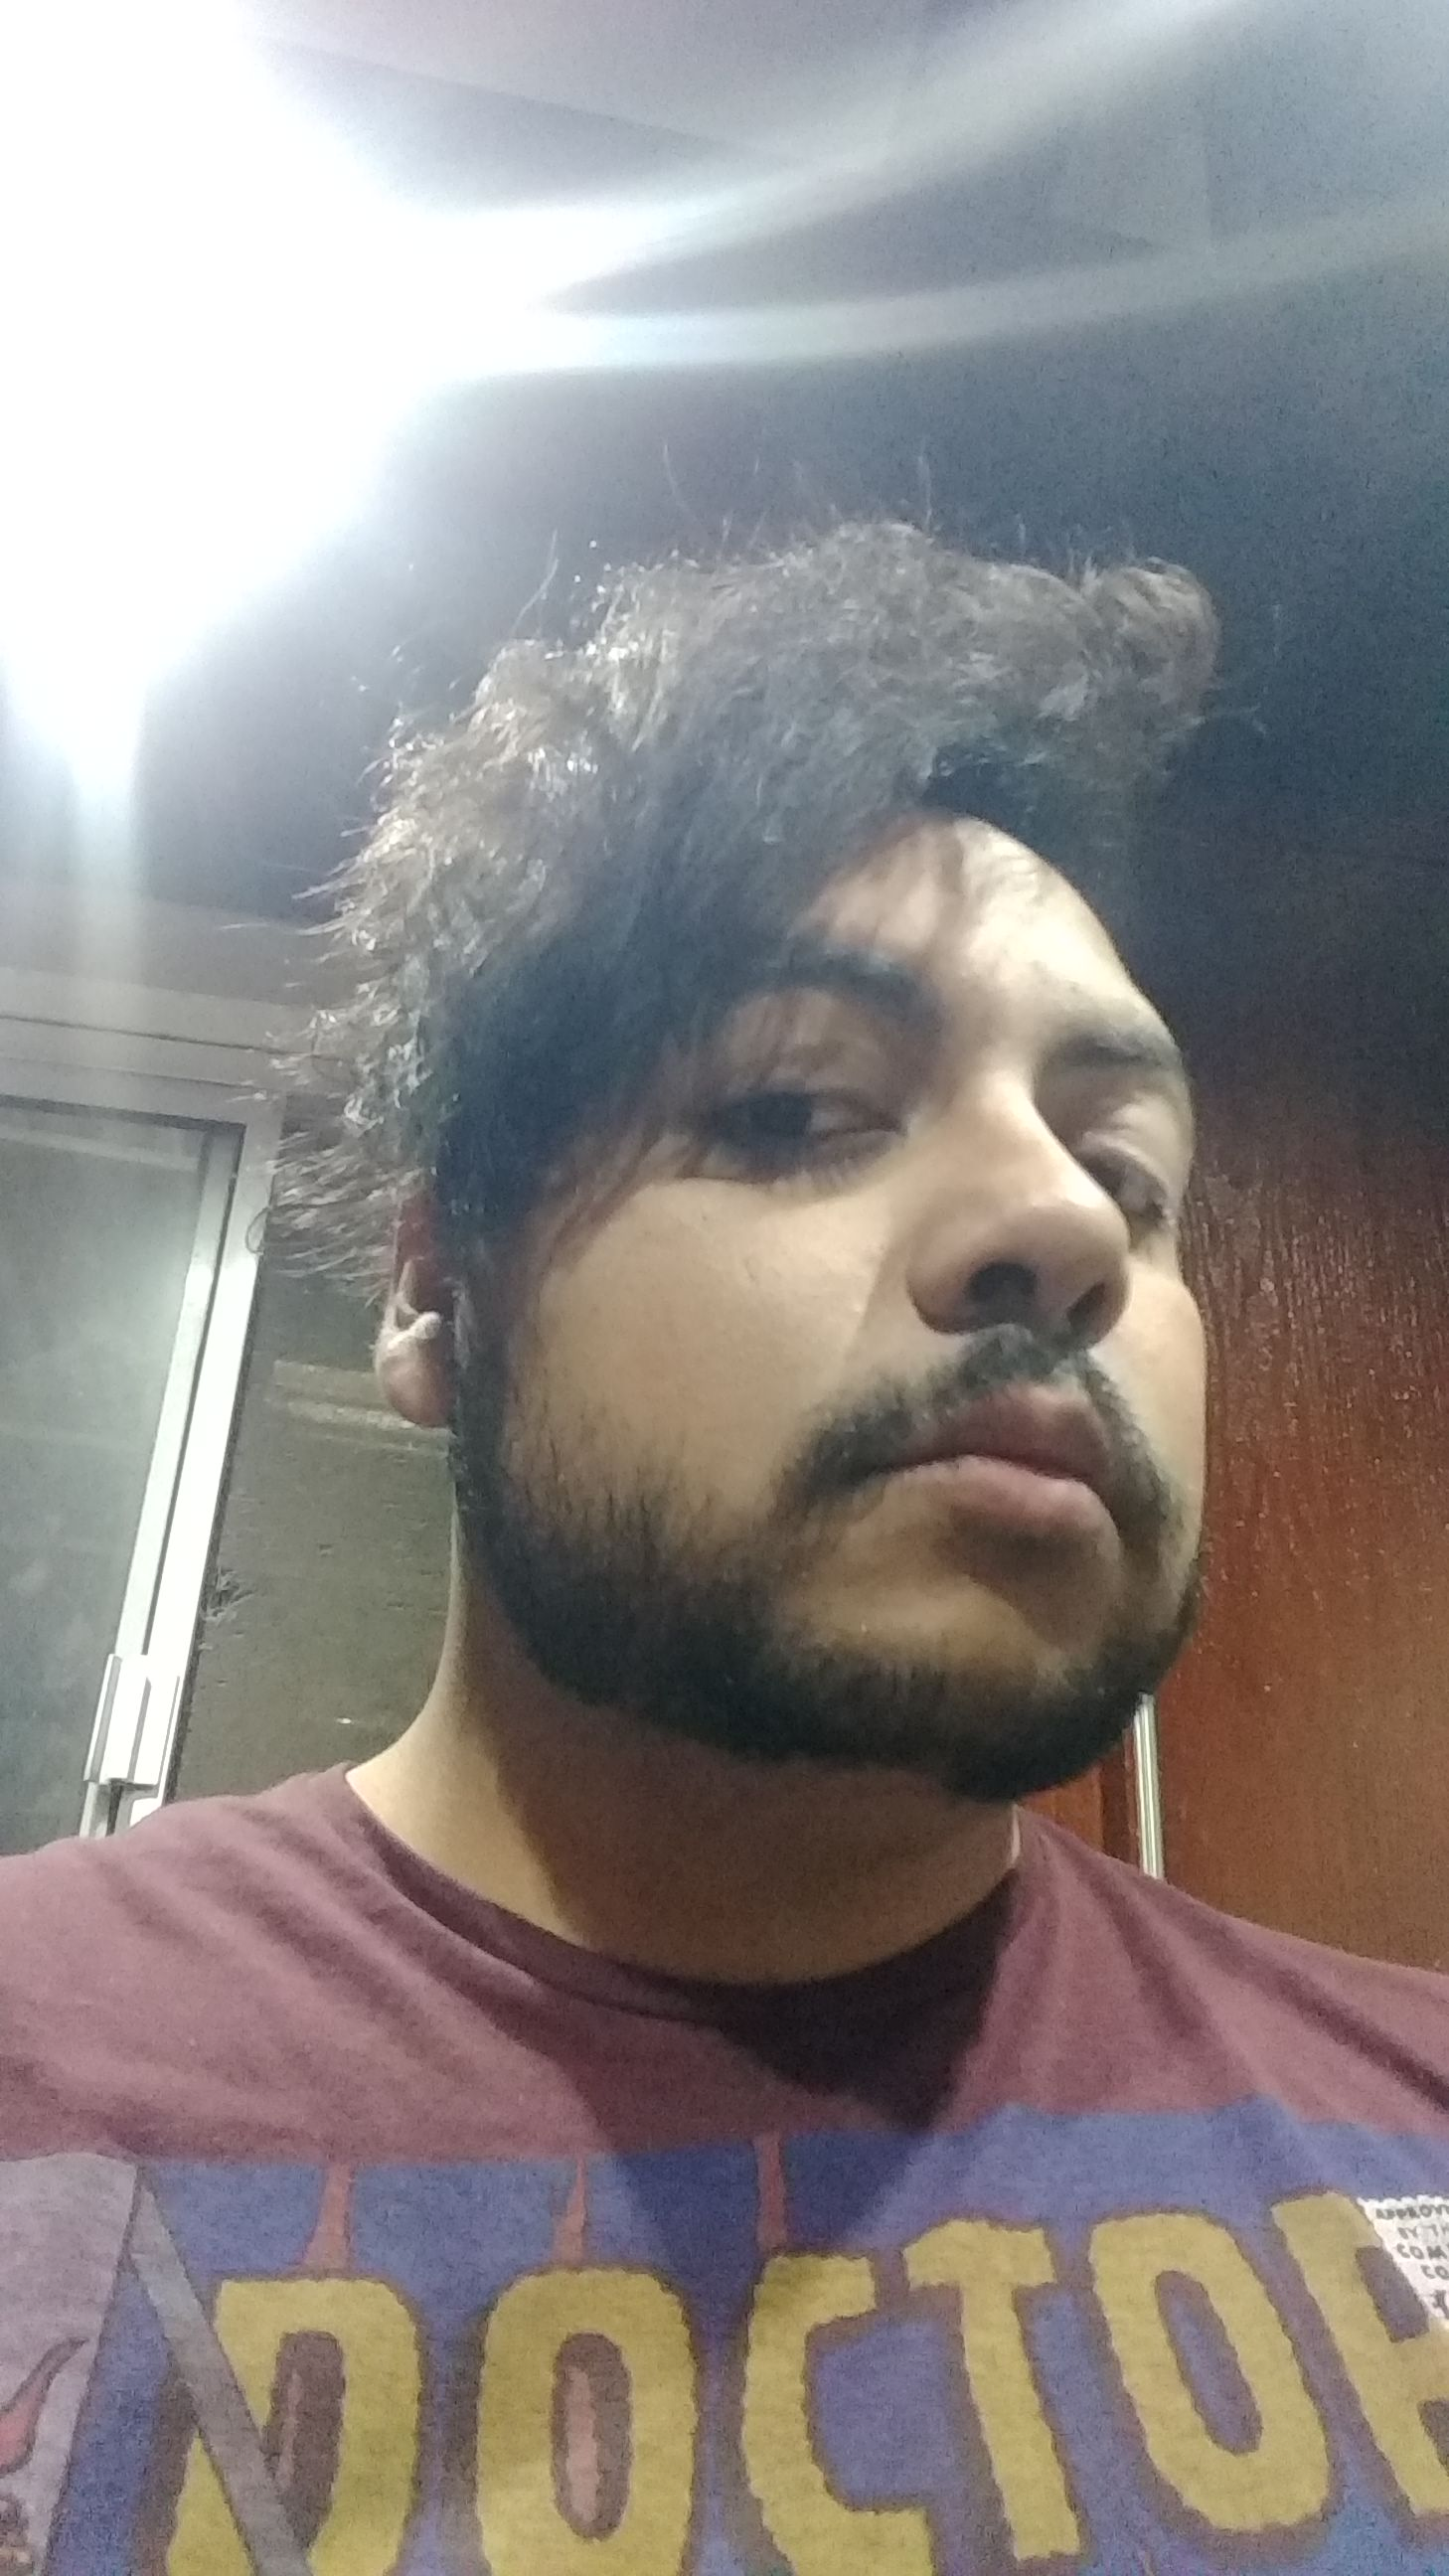Yoshi: (257, 522, 1449, 2222)
